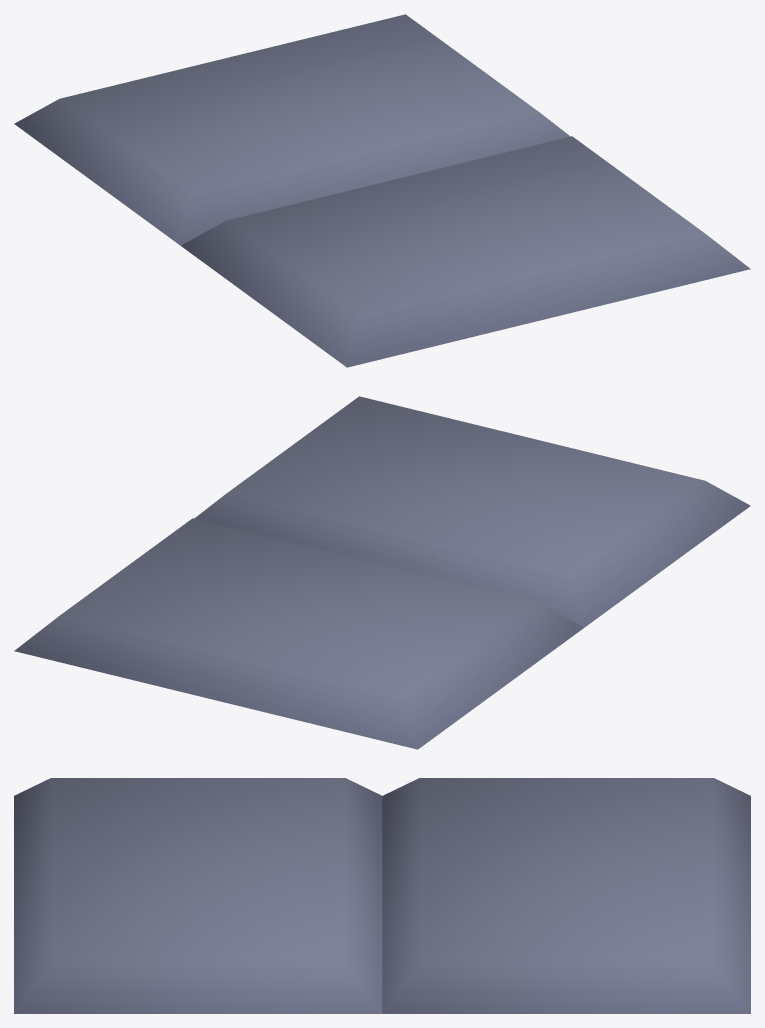
File: sub-path-stones-short.glb
3 views of the same model, one above another, from view 1: azimuth 30°, elevation 25°; view 2: azimuth 150°, elevation 25°; view 3: azimuth 270°, elevation 25° (orthographic). The views are drawn at different scales.
Parts seen in each view (by area): view 1: path-stones-short; view 2: path-stones-short; view 3: path-stones-short.
Boxes of the visible parts, bbox=[...] form: path-stones-short: bbox=[14, 14, 750, 367]; path-stones-short: bbox=[14, 396, 750, 749]; path-stones-short: bbox=[14, 778, 750, 1013].
Bounding box in the file's own units: 1.4 × 0.1001 × 2.
1 material, 1 textured.
